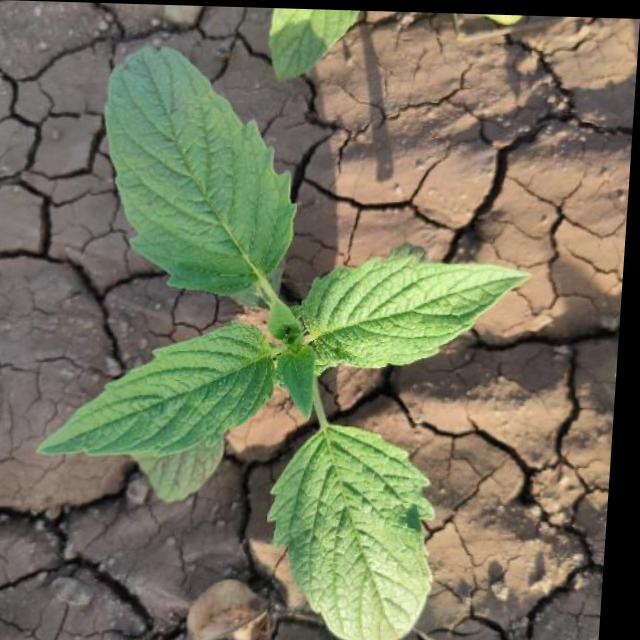crop: (36, 48, 540, 640)
